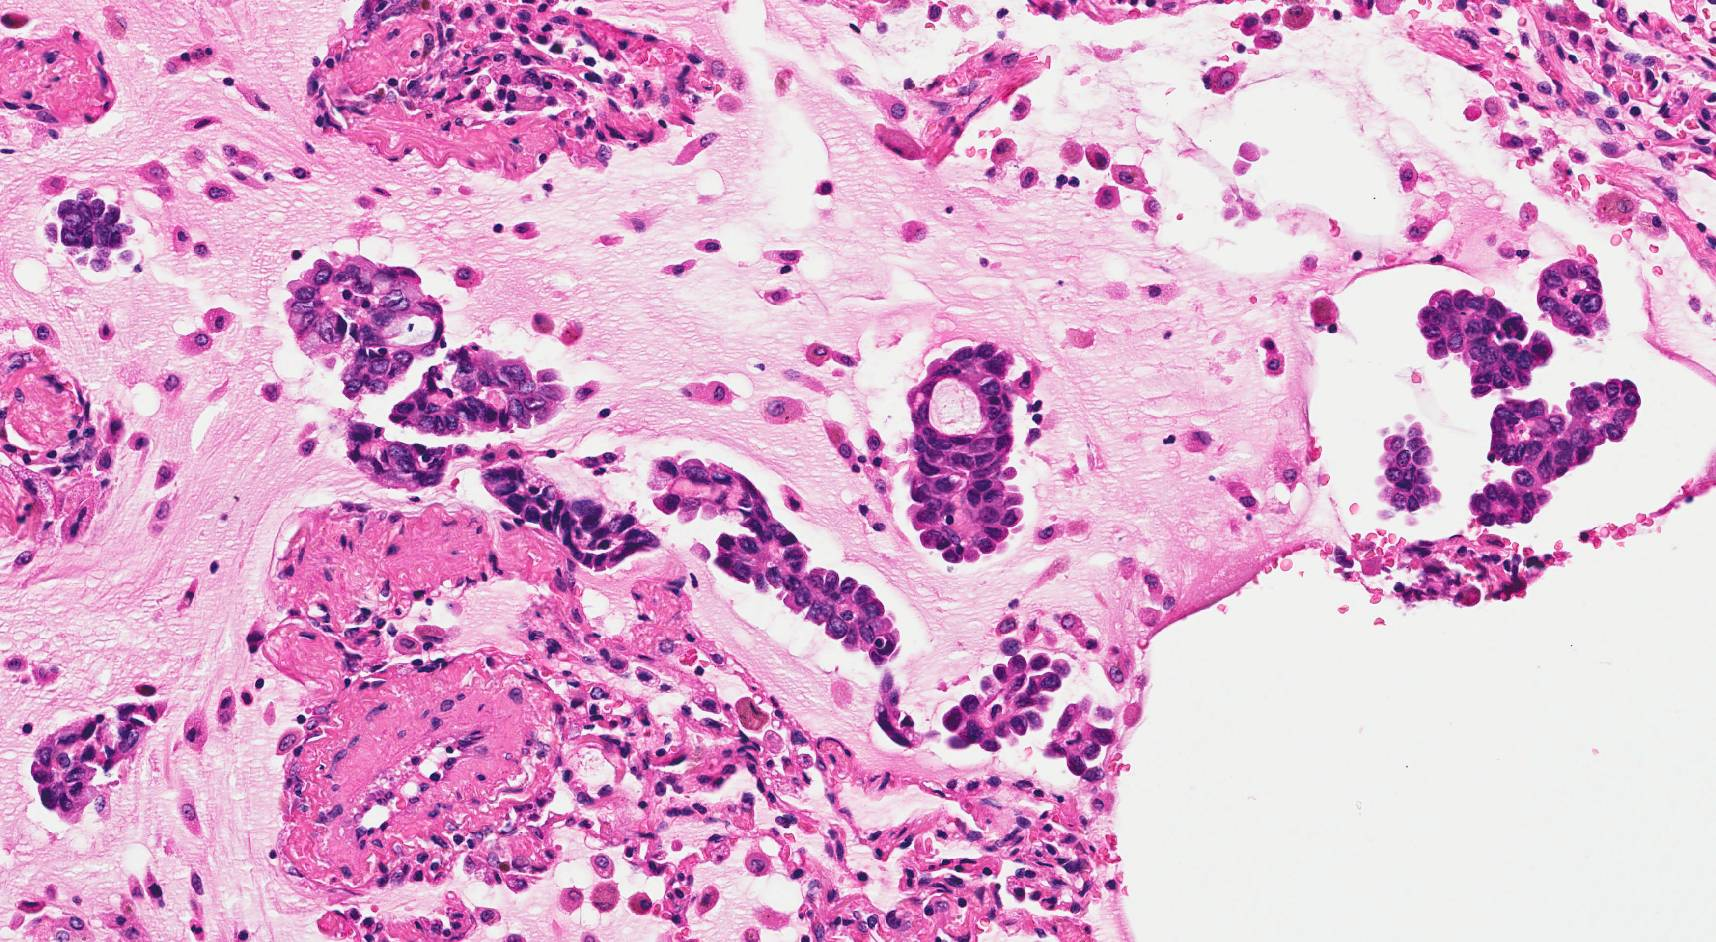stas: (651, 451, 900, 666), (1466, 377, 1641, 533), (907, 339, 1024, 566), (284, 250, 445, 401), (476, 443, 660, 574), (24, 694, 173, 828), (1412, 280, 1557, 402), (388, 339, 573, 435), (942, 635, 1072, 756), (345, 425, 478, 491), (41, 187, 140, 273), (1372, 415, 1446, 529), (1532, 252, 1619, 346), (1047, 700, 1117, 785), (872, 670, 933, 751)
